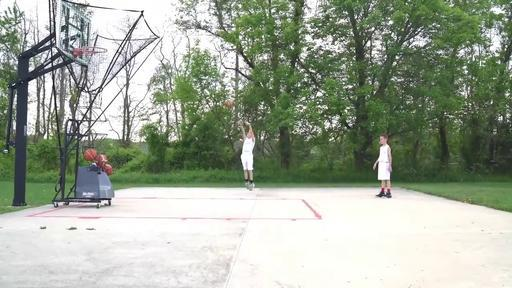ball: (83, 149, 97, 161), (223, 98, 235, 110), (104, 163, 114, 176), (98, 153, 106, 166)
human: (372, 134, 392, 198), (238, 121, 256, 191)
rim: (74, 46, 108, 74)
